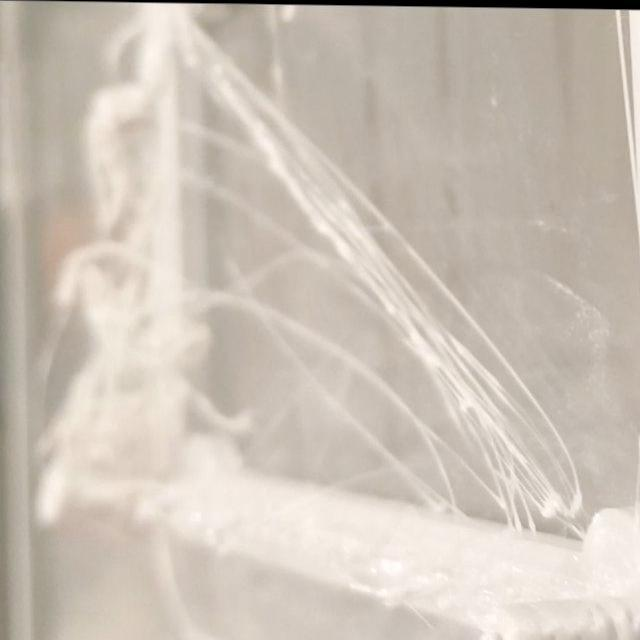stringing: (180, 10, 603, 533), (222, 229, 486, 510)
